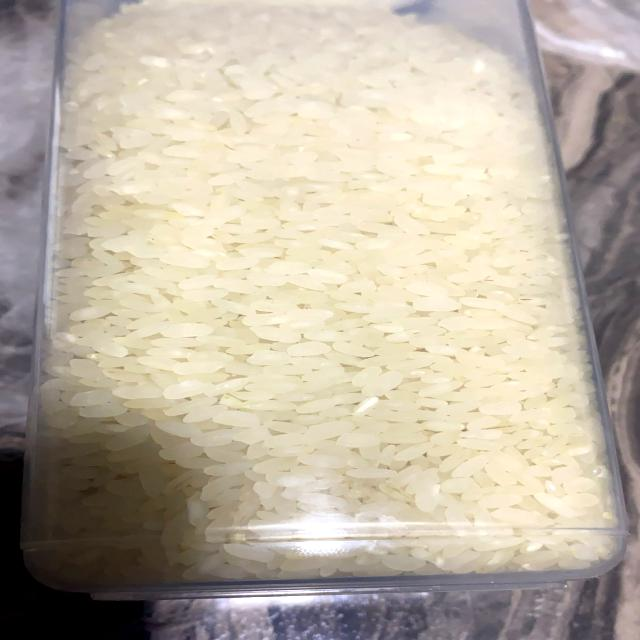rice: (49, 8, 588, 580)
